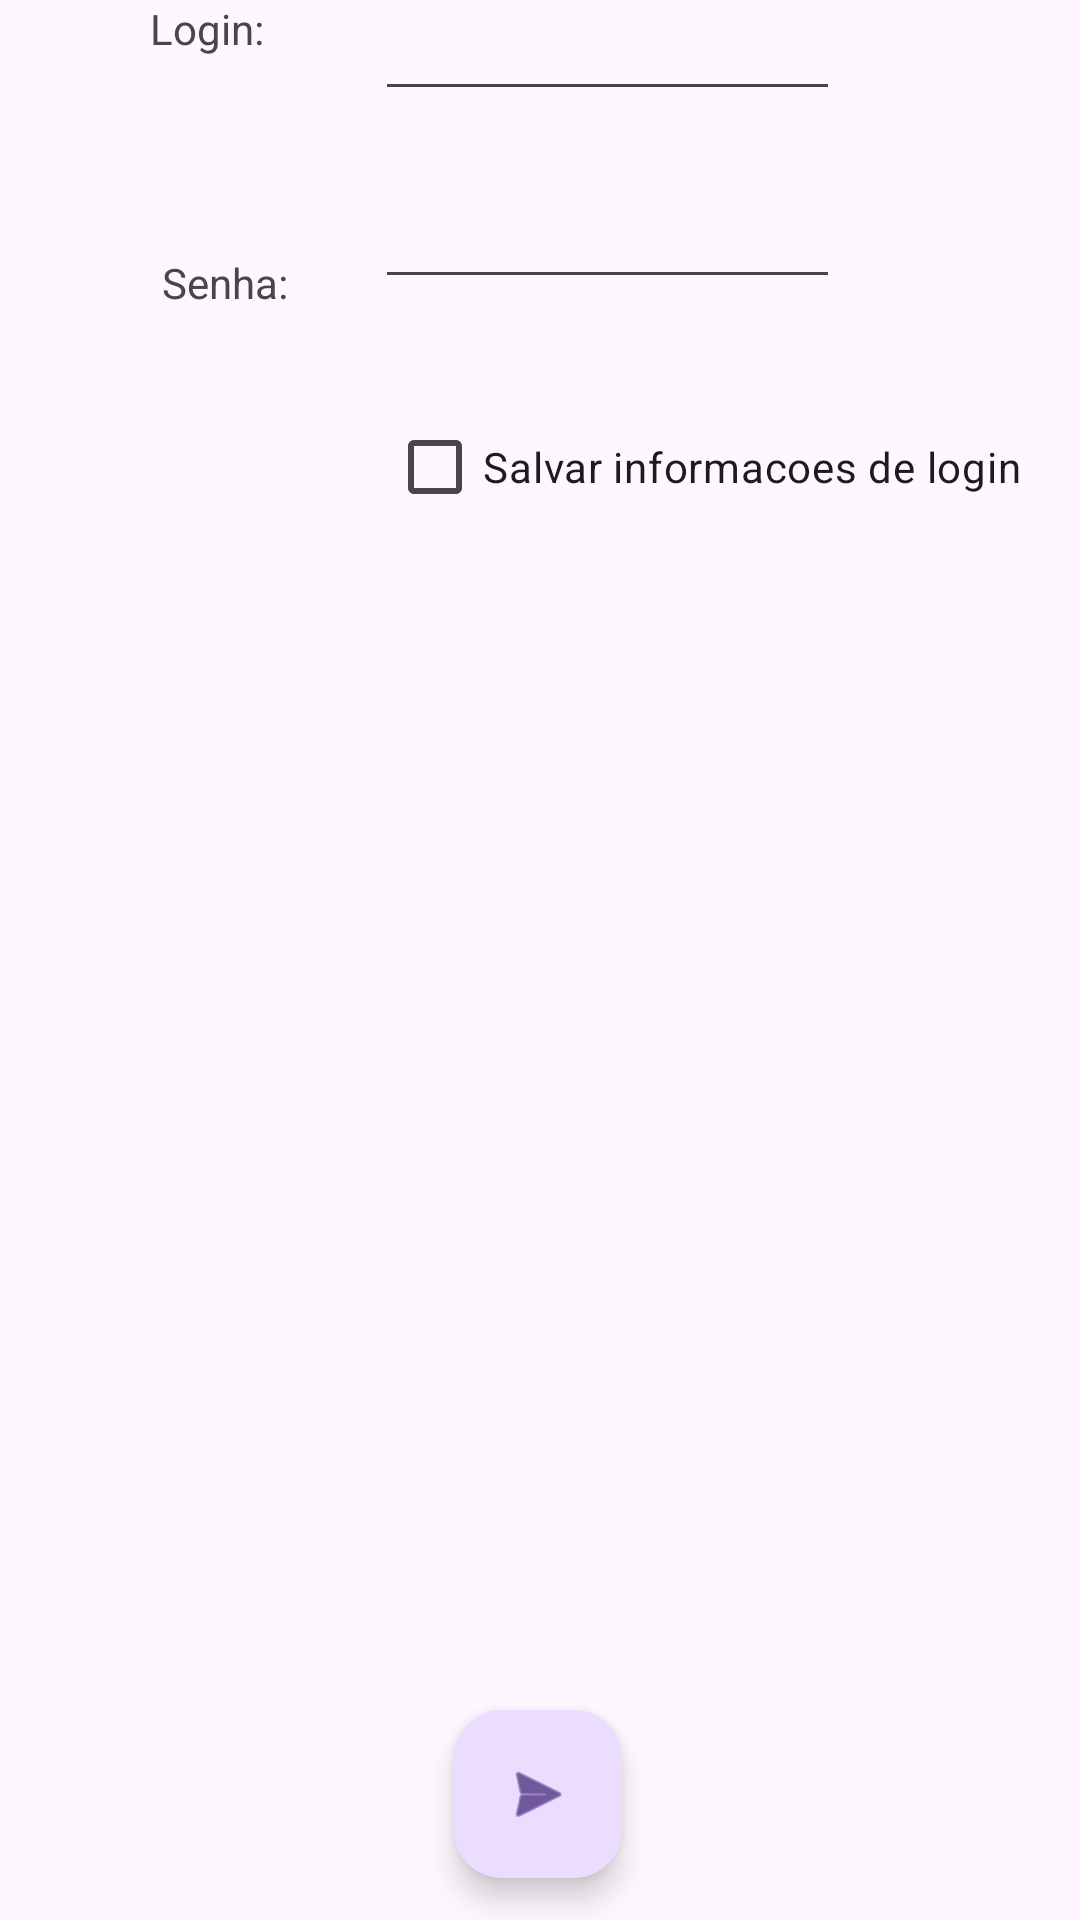

Where icons sit on this 1080w x 1920h app screen, as (x1, y1, x2, y2):
send: (454, 1710, 622, 1878)
